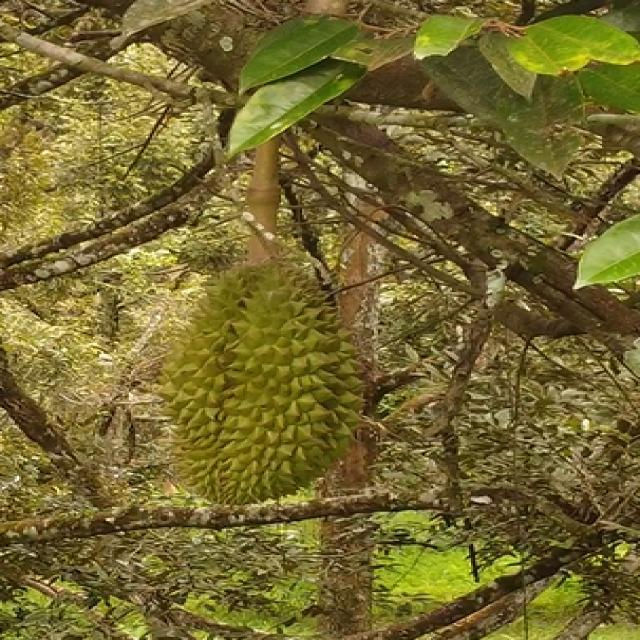immature: (159, 255, 370, 509)
